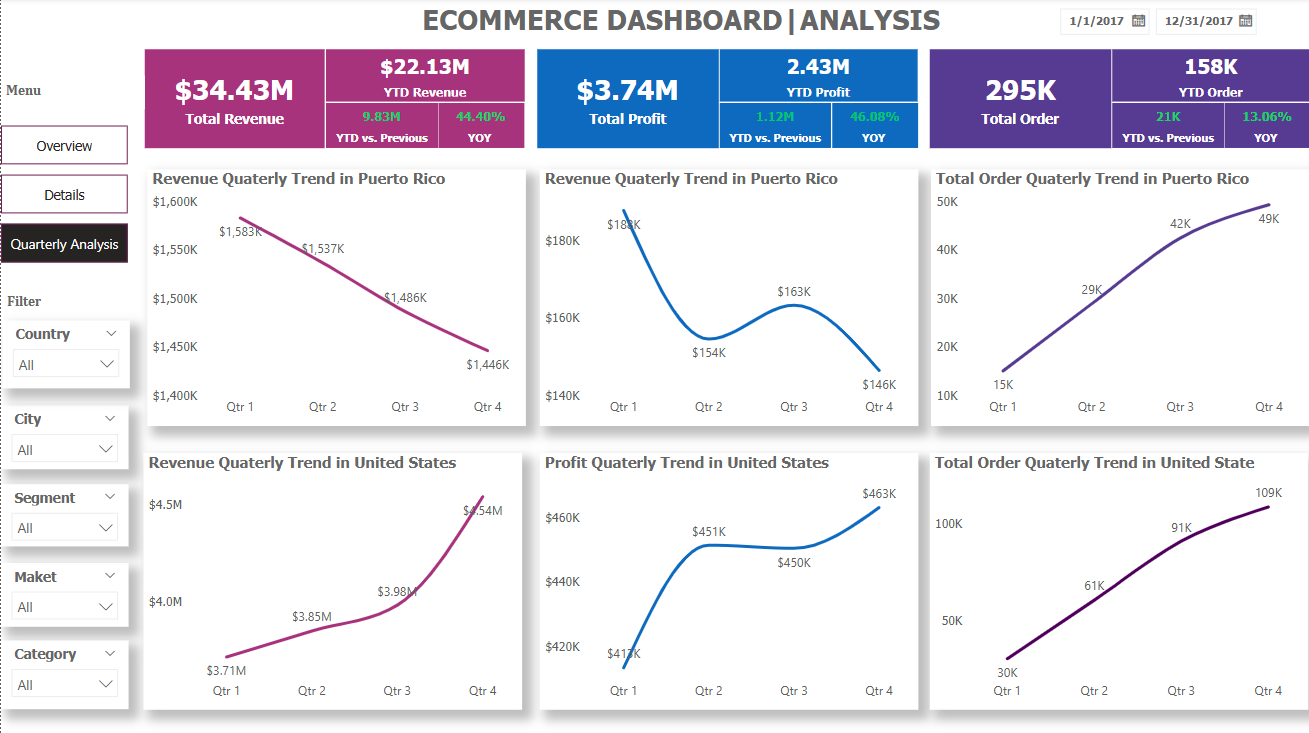

Layout of this report page (visuals, bound fields, positions):
{"tool":"powerbi","page":{"name":"Quarterly Analysis","canvas":[1280,720],"ordinal":2},"visuals":[{"type":"textbox","box":[407.2,0,568.6,50.1],"z":0},{"type":"card","fields":{"Values":["ecommerce_order.Total Revenue"]},"box":[140.6,50.1,176.1,96.6],"z":1000},{"type":"card","fields":{"Values":["ecommerce_order.YTD Revenue"]},"box":[317.9,50.1,194.4,51.4],"z":2000},{"type":"card","fields":{"Values":["ecommerce_order.Diff Revenue"]},"box":[318.4,102.9,109.8,43.9],"z":3000},{"type":"card","fields":{"Values":["ecommerce_order.YOY Revenue"]},"box":[428.1,102.9,83.7,43.9],"z":4000},{"type":"card","fields":{"Values":["ecommerce_order.Total Profit"]},"box":[524.6,50.1,177.3,96.6],"z":5000},{"type":"card","fields":{"Values":["ecommerce_order.YTD Profit"]},"box":[703.1,50.1,193.2,51.4],"z":6000},{"type":"card","fields":{"Values":["ecommerce_order.Diff Profit"]},"box":[703.1,102.7,108.8,44],"z":7000},{"type":"card","fields":{"Values":["ecommerce_order.Total Order"]},"box":[908.6,50.1,177.3,96.6],"z":8000},{"type":"card","fields":{"Values":["ecommerce_order.YTD Order"]},"box":[1086.8,50.1,193.2,51.4],"z":9000},{"type":"card","fields":{"Values":["ecommerce_order.Diff Order"]},"box":[1086.8,102.9,109.8,43.9],"z":10000},{"type":"card","fields":{"Values":["ecommerce_order.YOY Order"]},"box":[1196.6,102.9,83.7,43.9],"z":11000},{"type":"card","fields":{"Values":["ecommerce_order.YOY Profit"]},"box":[813.2,102.7,84.4,44],"z":12000},{"type":"slicer","fields":{"Values":["calendar.Date_format"]},"box":[1023.5,0,215.2,40.4],"z":13000},{"type":"textbox","box":[0,75.8,140.6,33],"z":14000},{"type":"textbox","box":[1.2,282.5,140.6,33],"z":15000},{"type":"slicer","fields":{"Values":["ecommerce_customer.customer_city"]},"box":[0,398.6,124.7,62.4],"z":16000},{"type":"slicer","fields":{"Values":["ecommerce_customer.customer_segment"]},"box":[0,475.7,124.7,61.1],"z":17000},{"type":"slicer","fields":{"Values":["ecommerce_order.market"]},"box":[0,552.7,124.7,62.4],"z":18000},{"type":"slicer","fields":{"Values":["ecommerce_order.category_name"]},"box":[0,628.5,124.7,67.3],"z":19000},{"type":"pageNavigator","box":[0,124.7,124.7,135.7],"z":20000},{"type":"slicer","fields":{"Values":["ecommerce_customer.customer_country"]},"box":[1.2,315.5,124.7,66],"z":22000},{"type":"areaChart","title":"Revenue Quaterly Trend in Puerto Rico","fields":{"Category":["calendar.Date_format.Variation.Date Hierarchy.Quarter"],"Y":["ecommerce_order.Total Revenue"]},"box":[142.7,167.4,370.5,251.1],"z":22001},{"type":"areaChart","title":"Revenue Quaterly Trend in United States ","fields":{"Category":["calendar.Date_format.Variation.Date Hierarchy.Quarter"],"Y":["ecommerce_order.Total Revenue"]},"box":[140,444.6,370.5,251.1],"z":22002},{"type":"areaChart","title":"Revenue Quaterly Trend in Puerto Rico","fields":{"Category":["calendar.Date_format.Variation.Date Hierarchy.Quarter"],"Y":["ecommerce_order.Total Profit"]},"box":[526.9,167.4,370.5,251.1],"z":22003},{"type":"areaChart","title":"Profit Quaterly Trend in United States","fields":{"Category":["calendar.Date_format.Variation.Date Hierarchy.Quarter"],"Y":["ecommerce_order.Total Profit"]},"box":[526.9,444.6,370.5,251.1],"z":22004},{"type":"areaChart","title":"Total Order Quaterly Trend in Puerto Rico","fields":{"Category":["calendar.Date_format.Variation.Date Hierarchy.Quarter"],"Y":["ecommerce_order.YTD Order"]},"box":[909.8,167.4,370.5,251.1],"z":22005},{"type":"areaChart","title":"Total Order Quaterly Trend in United State","fields":{"Category":["calendar.Date_format.Variation.Date Hierarchy.Quarter"],"Y":["ecommerce_order.YTD Order"]},"box":[908.4,444.6,370.5,251.1],"z":22006}]}

Visuals, with their boxes in screenshot pixels (x1, y1, x2, y2), scaled from the page's 1280x720 canvas onto the 1309x733 screenshot:
textbox: (416, 0, 998, 51)
card - ecommerce_order.Total Revenue: (144, 51, 324, 149)
card - ecommerce_order.YTD Revenue: (325, 51, 524, 103)
card - ecommerce_order.Diff Revenue: (326, 105, 438, 149)
card - ecommerce_order.YOY Revenue: (438, 105, 523, 149)
card - ecommerce_order.Total Profit: (536, 51, 718, 149)
card - ecommerce_order.YTD Profit: (719, 51, 917, 103)
card - ecommerce_order.Diff Profit: (719, 105, 830, 149)
card - ecommerce_order.Total Order: (929, 51, 1111, 149)
card - ecommerce_order.YTD Order: (1111, 51, 1308, 103)
card - ecommerce_order.Diff Order: (1111, 105, 1224, 149)
card - ecommerce_order.YOY Order: (1224, 105, 1308, 149)
card - ecommerce_order.YOY Profit: (832, 105, 918, 149)
slicer - calendar.Date_format: (1047, 0, 1267, 41)
textbox: (0, 77, 144, 111)
textbox: (1, 288, 145, 321)
slicer - ecommerce_customer.customer_city: (0, 406, 128, 469)
slicer - ecommerce_customer.customer_segment: (0, 484, 128, 546)
slicer - ecommerce_order.market: (0, 563, 128, 626)
slicer - ecommerce_order.category_name: (0, 640, 128, 708)
pageNavigator: (0, 127, 128, 265)
slicer - ecommerce_customer.customer_country: (1, 321, 129, 388)
"Revenue Quaterly Trend in Puerto Rico" areaChart: (146, 170, 525, 426)
"Revenue Quaterly Trend in United States " areaChart: (143, 453, 522, 708)
"Revenue Quaterly Trend in Puerto Rico" areaChart: (539, 170, 918, 426)
"Profit Quaterly Trend in United States" areaChart: (539, 453, 918, 708)
"Total Order Quaterly Trend in Puerto Rico" areaChart: (930, 170, 1308, 426)
"Total Order Quaterly Trend in United State" areaChart: (929, 453, 1308, 708)
